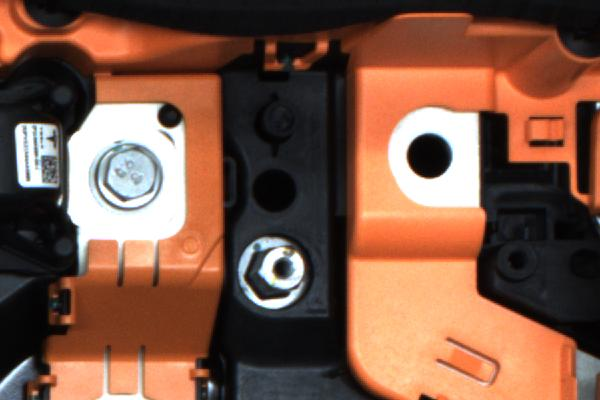nut_b: (84, 142, 180, 216)
